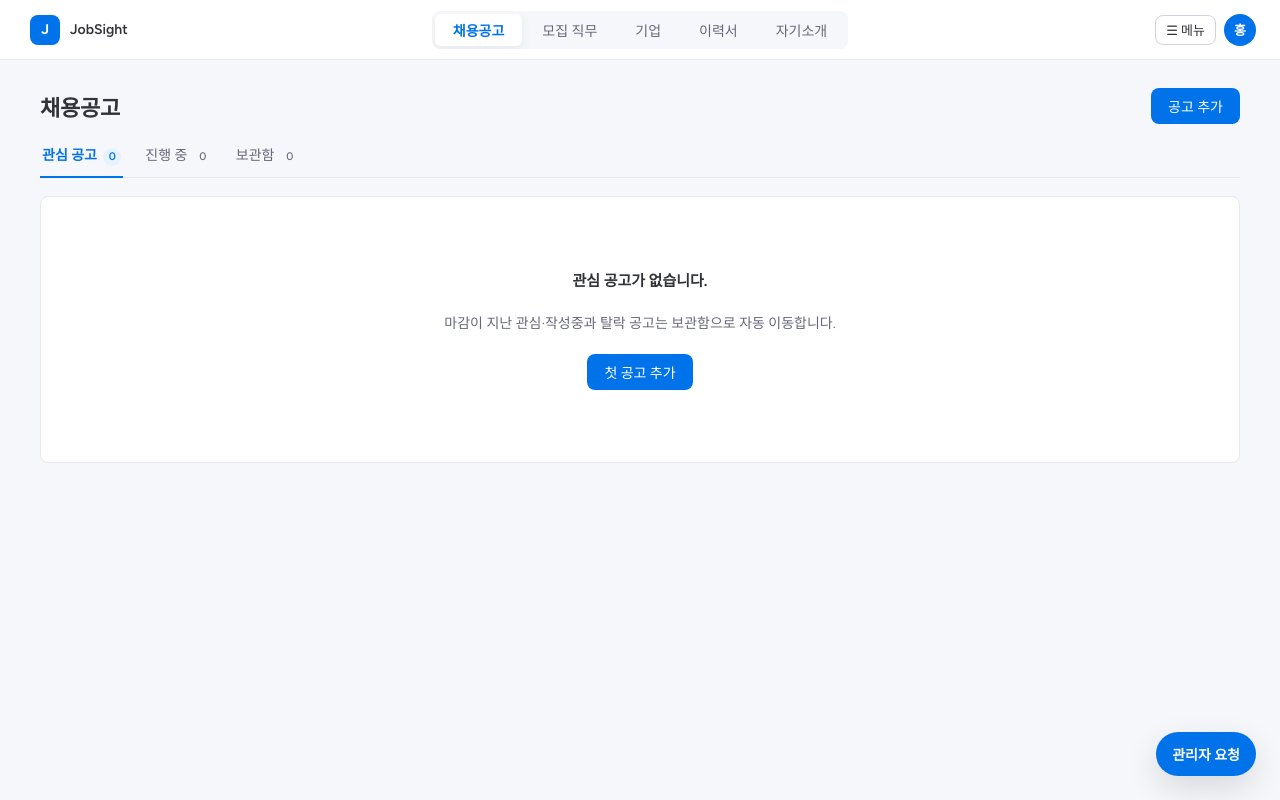
it: App 접근 제어 › 아바타를 누르면 이름 수정 팝오버가 열리고 저장하면 me 가 갱신된다
The width and height of the screenshot is (1280, 800).
Click the button with class "avatar" at [1240, 30], box [1224, 14, 1256, 46]
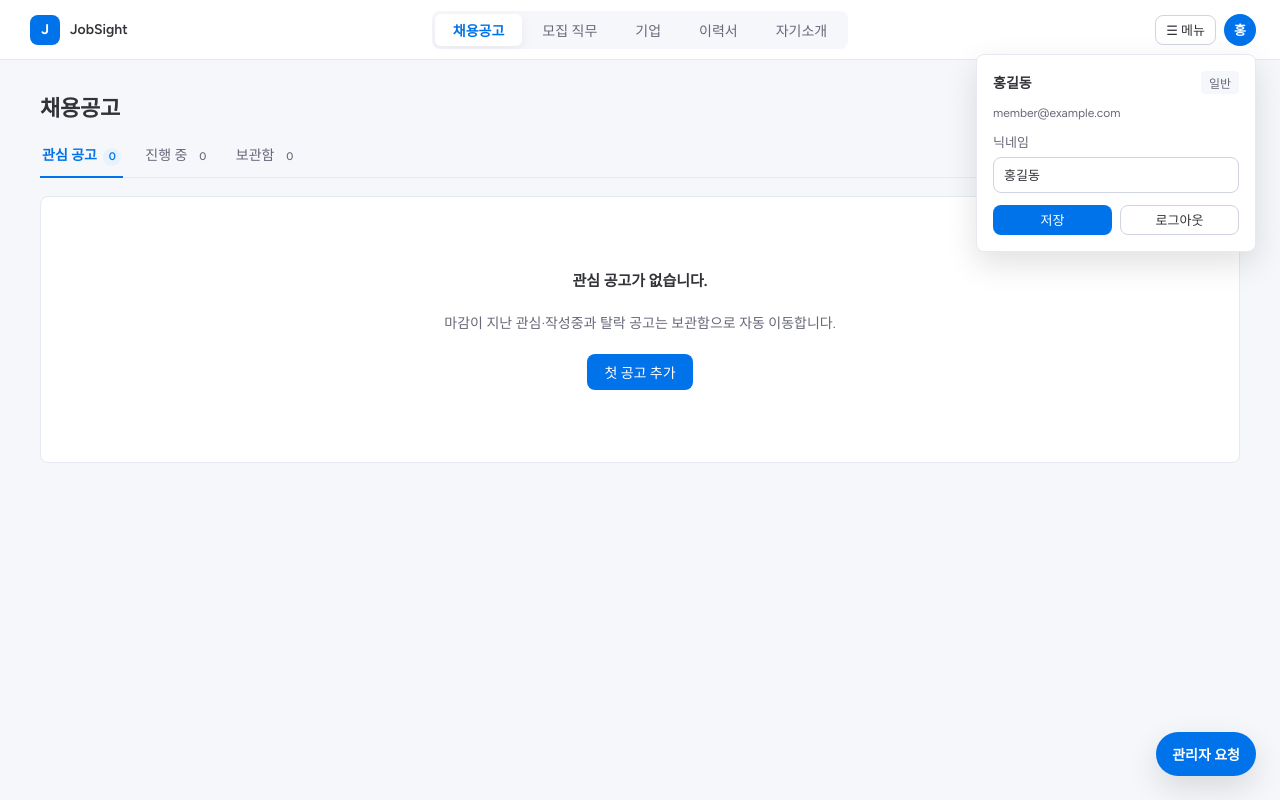
Expected: the dialog is shown, [976, 54, 1256, 252]
Expected: the dialog shows "member@example.com", [993, 106, 1120, 120]
Expected: the dialog shows "닉네임", [993, 134, 1029, 150]
Replace the text in the field labelled "닉네임" with "김철수" at [1116, 174], box [993, 156, 1239, 192]
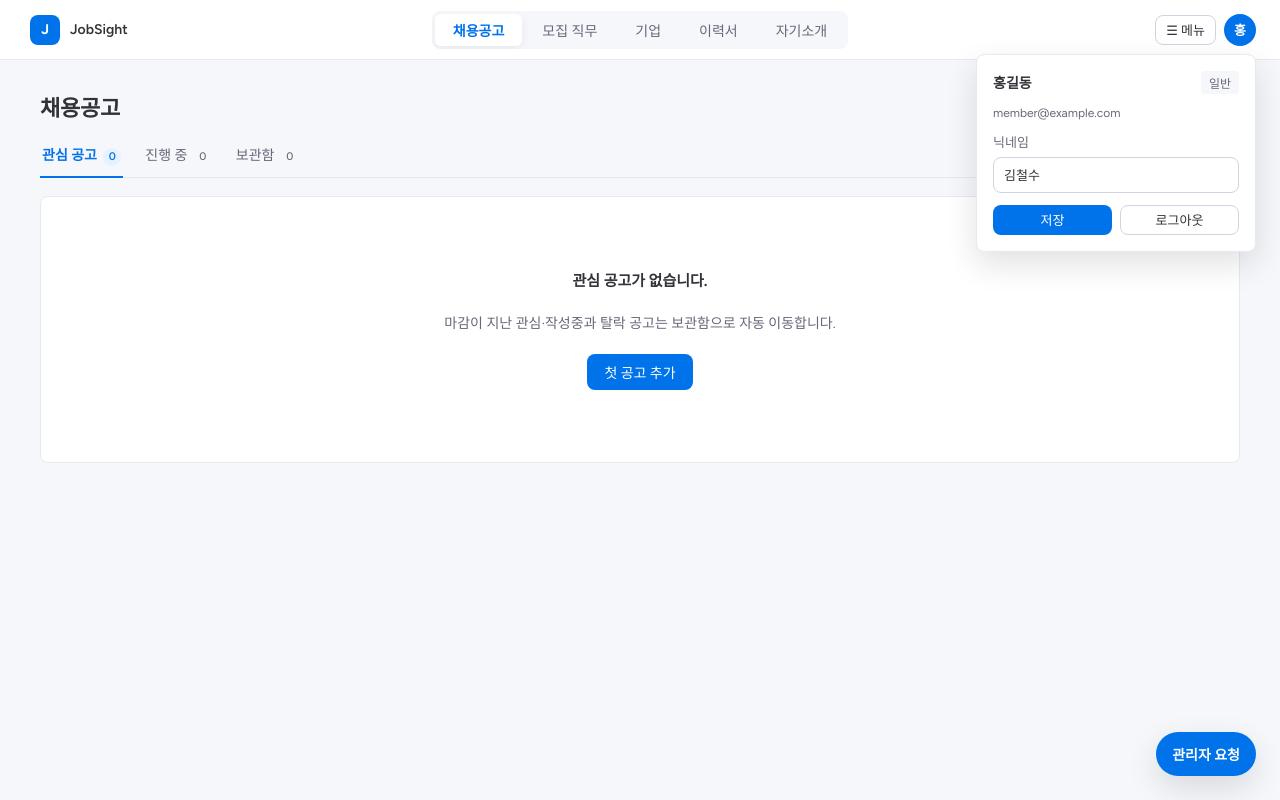
Submit the form, box [993, 132, 1239, 234]
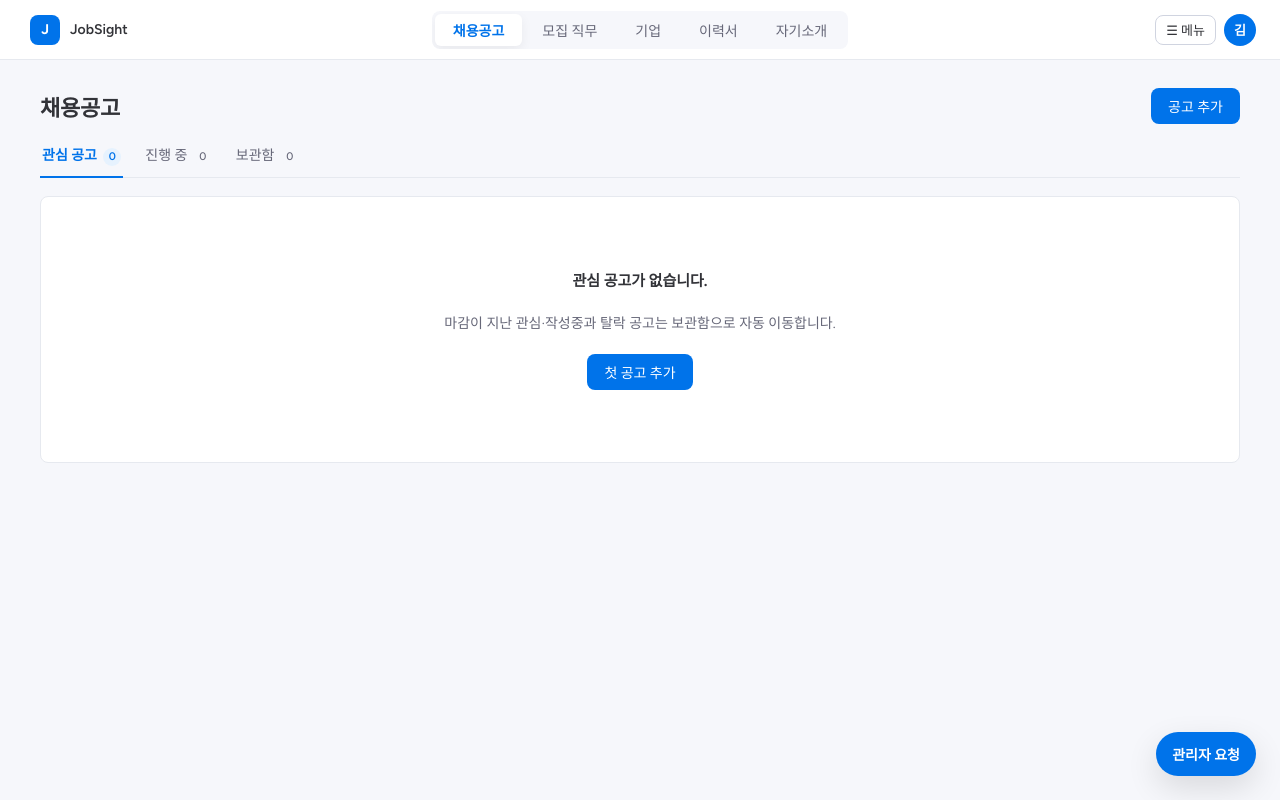
Expected: the button with class "avatar" reads "김", [1224, 14, 1256, 46]
